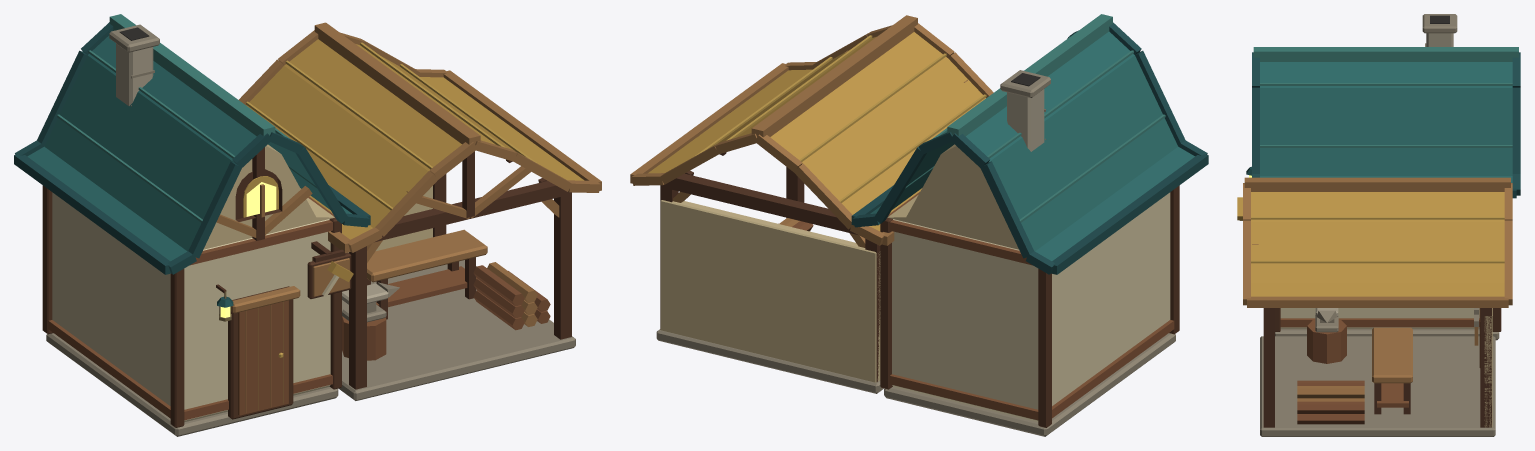
The model's file is workshop.glb.
3 views of the same model, side by side, from view 1: azimuth 30°, elevation 25°; view 2: azimuth 150°, elevation 25°; view 3: azimuth 270°, elevation 25° (orthographic). The views are drawn at different scales.
Visible parts, largest first — view 1: workshop; view 2: workshop; view 3: workshop.
Boxes of the visible parts, x1,y1,x2,y2 form: workshop: (14, 14, 601, 436); workshop: (630, 14, 1208, 436); workshop: (1237, 14, 1520, 436).
Size of the model in its own units: 9.05 by 6.43 by 5.98.
